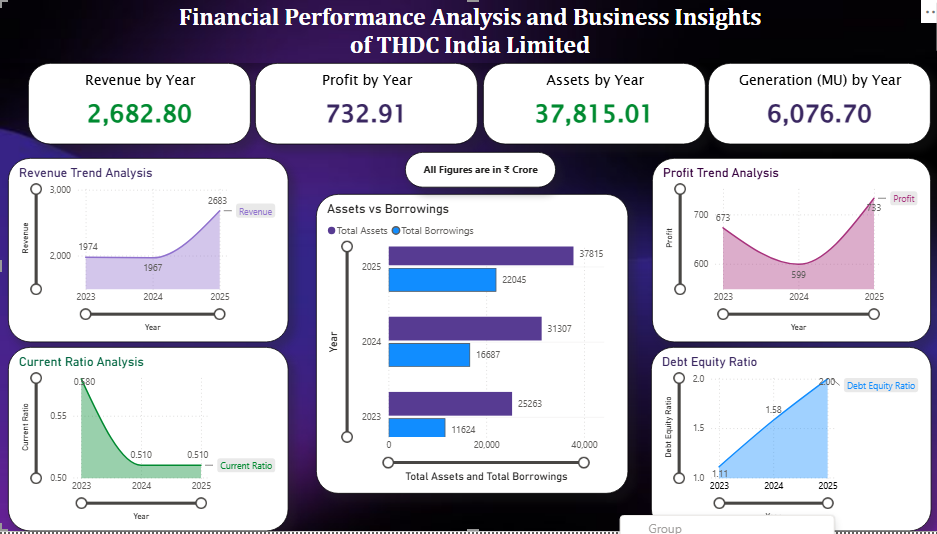

This screenshot's page, from the dashboard's own definition file:
{"tool":"powerbi","page":{"name":"Page 1","canvas":[1280,720],"ordinal":0},"visuals":[{"type":"image","box":[0,0,1280.3,720.2],"z":500},{"type":"textbox","box":[0,0,1280,87.1],"z":1000},{"type":"kpi","fields":{"Indicator":["Sum(THDC Raw Data.Revenue)"],"TrendLine":["THDC Raw Data.Year"]},"box":[39.1,86.8,301.2,110.1],"z":2000,"group":"g1"},{"type":"lineChart","title":"Revenue Trend Analysis","fields":{"Y":["Sum(THDC Raw Data.Revenue)"],"Category":["THDC Raw Data.Year"]},"box":[12.2,215.2,379.1,249.5],"z":2000},{"type":"group","id":"g1","title":"Group 1","box":[39.1,86.8,1220.4,110.1],"z":3000},{"type":"kpi","fields":{"TrendLine":["THDC Raw Data.Year"],"Indicator":["Sum(THDC Raw Data.Profit)"]},"box":[345.5,86.8,301.2,110.1],"z":3000,"group":"g1"},{"type":"kpi","fields":{"TrendLine":["THDC Raw Data.Year"],"Indicator":["Sum(THDC Raw Data.Total Assets)"]},"box":[653.5,86.8,301.2,110.1],"z":4000,"group":"g1"},{"type":"lineChart","title":"Profit Trend Analysis","fields":{"Category":["THDC Raw Data.Year"],"Y":["Sum(THDC Raw Data.Profit)"]},"box":[882.9,215.2,376.6,249.5],"z":4000},{"type":"kpi","fields":{"TrendLine":["THDC Raw Data.Year"],"Indicator":["Sum(THDC Raw Data.Generation (MU))"]},"box":[958.3,86.8,301.2,110.1],"z":5000,"group":"g1"},{"type":"clusteredBarChart","title":"Assets vs Borrowings","fields":{"Category":["THDC Raw Data.Year"],"Y":["Sum(THDC Raw Data.Total Assets)","Sum(THDC Raw Data.Total Borrowings)"]},"box":[428,262.9,421.9,404.8],"z":5000},{"type":"lineChart","title":"Current Ratio Analysis","fields":{"Category":["THDC Raw Data.Year"],"Y":["Sum(THDC Raw Data.Current Ratio)"]},"box":[12.2,470.8,379.1,249.5],"z":6000},{"type":"lineChart","title":"Debt Equity Ratio","fields":{"Category":["THDC Raw Data.Year"],"Y":["Sum(THDC Raw Data.Debt Equity Ratio)"]},"box":[880.4,470.8,379.1,249.5],"z":7000},{"type":"textbox","box":[549.1,206.7,204.2,47.7],"z":8000}]}

Visuals, with their boxes in screenshot pixels (x1, y1, x2, y2), scaled from the page's 1280x720 canvas onto the 937x534 screenshot:
image: locate(0, 0, 936, 533)
textbox: locate(0, 0, 936, 65)
kpi - Sum(THDC Raw Data.Revenue) x THDC Raw Data.Year: locate(29, 64, 249, 146)
"Revenue Trend Analysis" lineChart: locate(9, 160, 286, 345)
"Group 1" group: locate(29, 64, 922, 146)
kpi - THDC Raw Data.Year x Sum(THDC Raw Data.Profit): locate(253, 64, 473, 146)
kpi - THDC Raw Data.Year x Sum(THDC Raw Data.Total Assets): locate(478, 64, 699, 146)
"Profit Trend Analysis" lineChart: locate(646, 160, 922, 345)
kpi - THDC Raw Data.Year x Sum(THDC Raw Data.Generation (MU)): locate(702, 64, 922, 146)
"Assets vs Borrowings" clusteredBarChart: locate(313, 195, 622, 495)
"Current Ratio Analysis" lineChart: locate(9, 349, 286, 533)
"Debt Equity Ratio" lineChart: locate(644, 349, 922, 533)
textbox: locate(402, 153, 551, 189)
